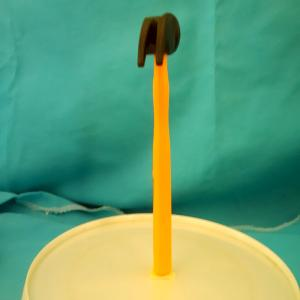martelo: (136, 11, 182, 277)
